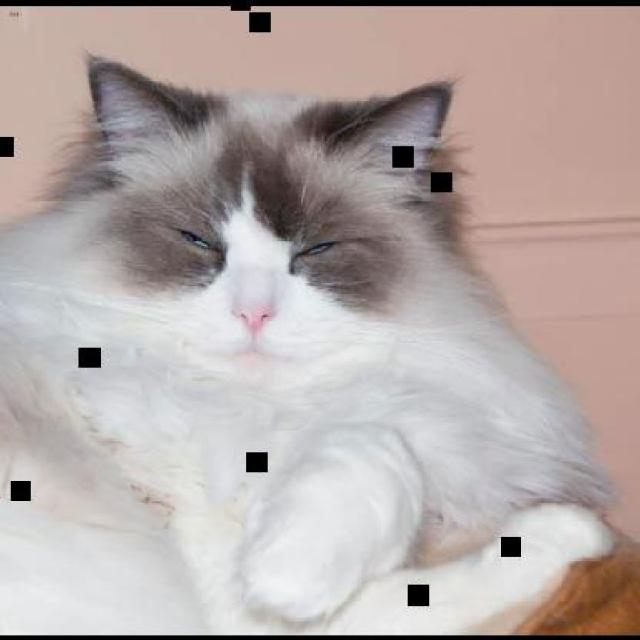unauthorized: (0, 50, 626, 632)
